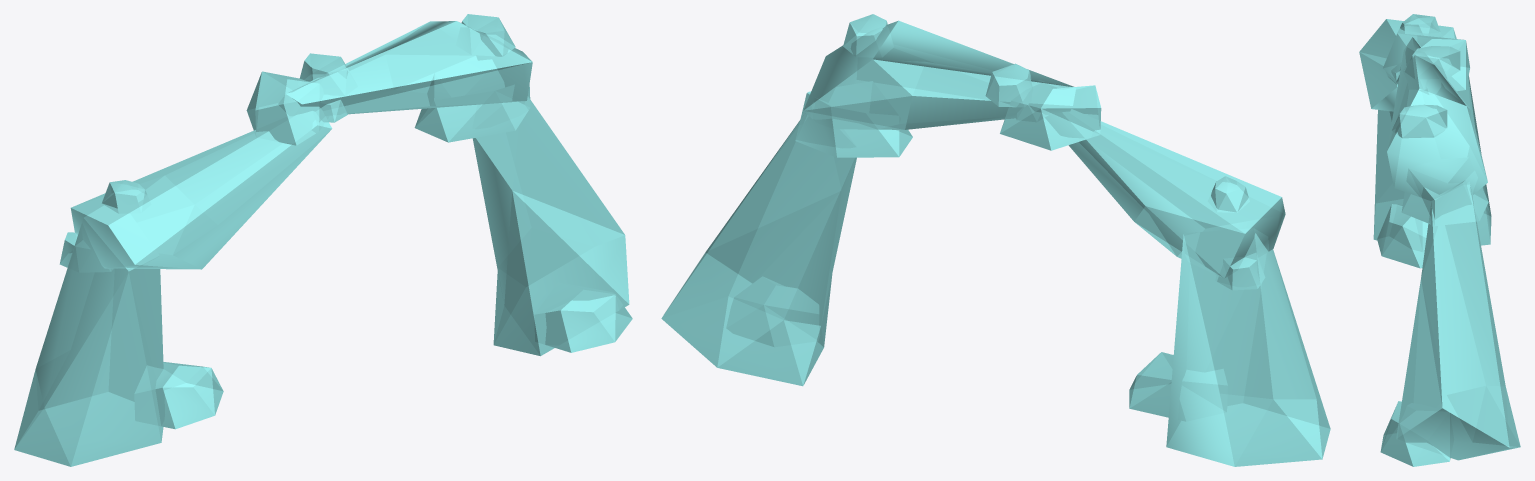
File: Stone_Ice_Arch_01.fbx
3 renders of one model, left to right at view 1: azimuth 30°, elevation 25°; view 2: azimuth 150°, elevation 25°; view 3: azimuth 270°, elevation 25°, orthographic. The views are drawn at different scales.
Parts seen in each view (by area): view 1: Model; view 2: Model; view 3: Model.
Part boxes in pixels (box(x1,y1,x2,y2)): Model: box(14, 14, 632, 466); Model: box(661, 14, 1330, 466); Model: box(1359, 14, 1520, 466).
Size of the model in its own units: 1729 by 961 by 433.
